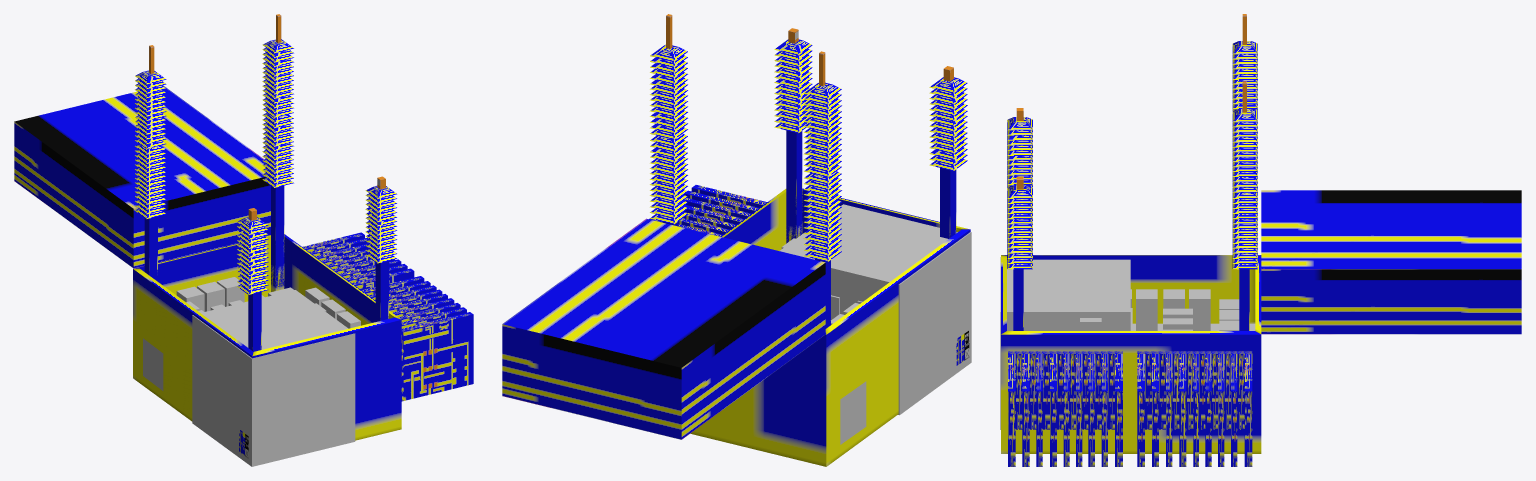
Rendered from GridConverter.obj.
3 renders of one model, left to right at view 1: azimuth 30°, elevation 25°; view 2: azimuth 150°, elevation 25°; view 3: azimuth 270°, elevation 25°, orthographic. The views are drawn at different scales.
Visible parts, largest first — view 1: main, Cube.036_Cube.051, Main_Block_Cube; view 2: Cube.036_Cube.051, main, Main_Block_Cube; view 3: main, Cube.036_Cube.051, Main_Block_Cube.
Boxes of the visible parts, box(x1,y1,x2,y2) form: main: box(133, 14, 473, 458); Cube.036_Cube.051: box(14, 85, 270, 268); Main_Block_Cube: box(192, 290, 355, 466); Cube.036_Cube.051: box(502, 218, 825, 439); main: box(649, 14, 970, 466); Main_Block_Cube: box(779, 204, 971, 415); main: box(1001, 14, 1261, 466); Cube.036_Cube.051: box(1261, 190, 1521, 334); Main_Block_Cube: box(1000, 257, 1130, 429).
Size of what is drawn, in the model's own units: 2.18 by 3.1 by 4.
